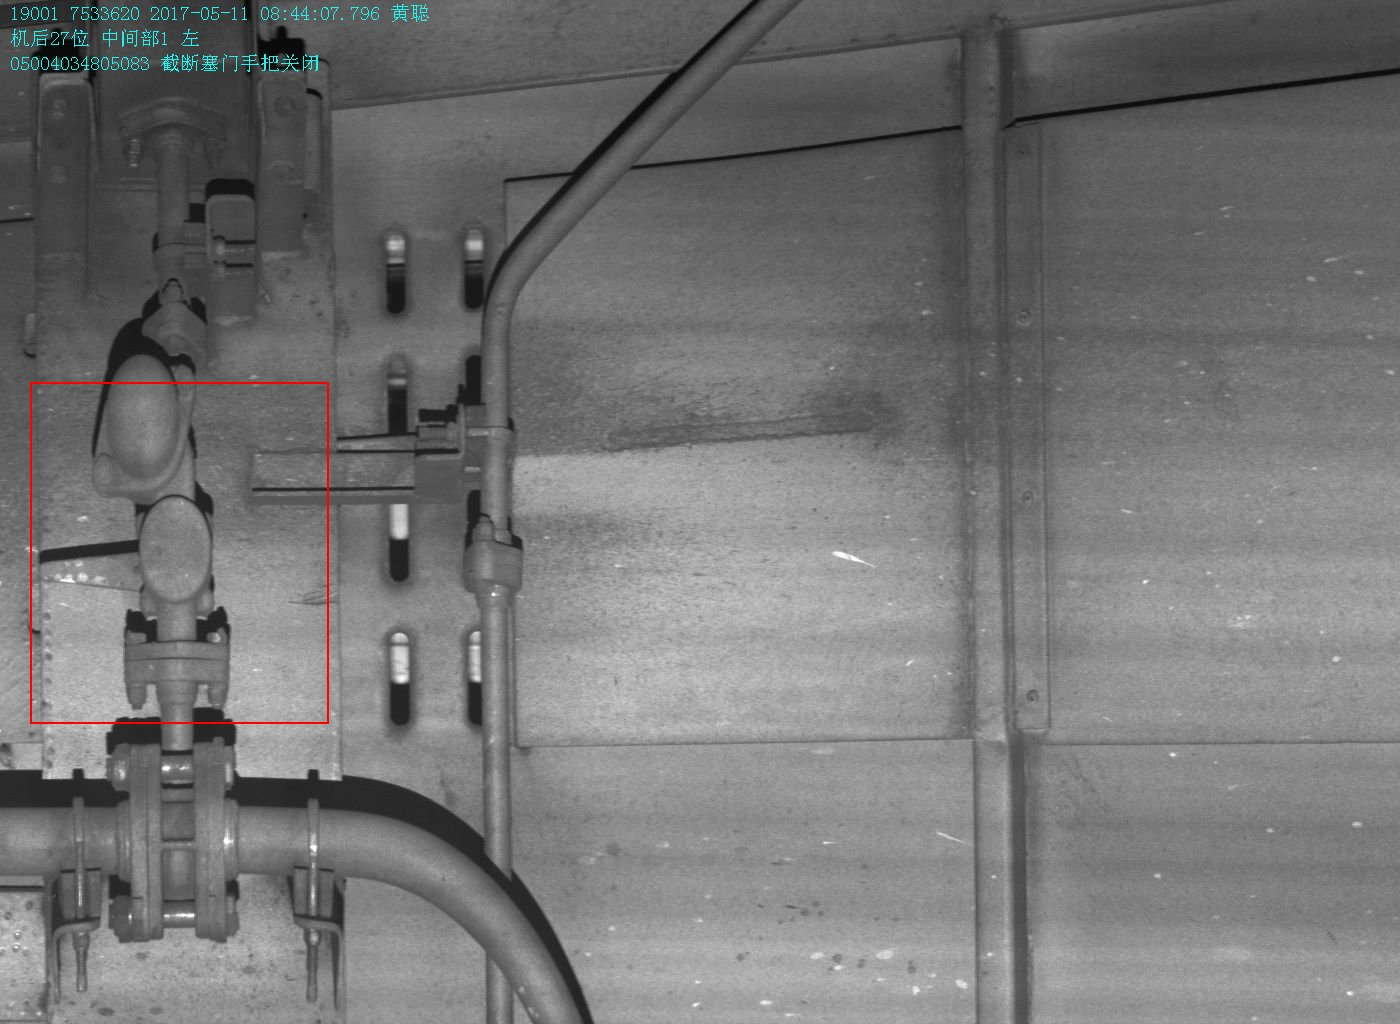truncated plug door handle: (42, 494, 218, 613)
